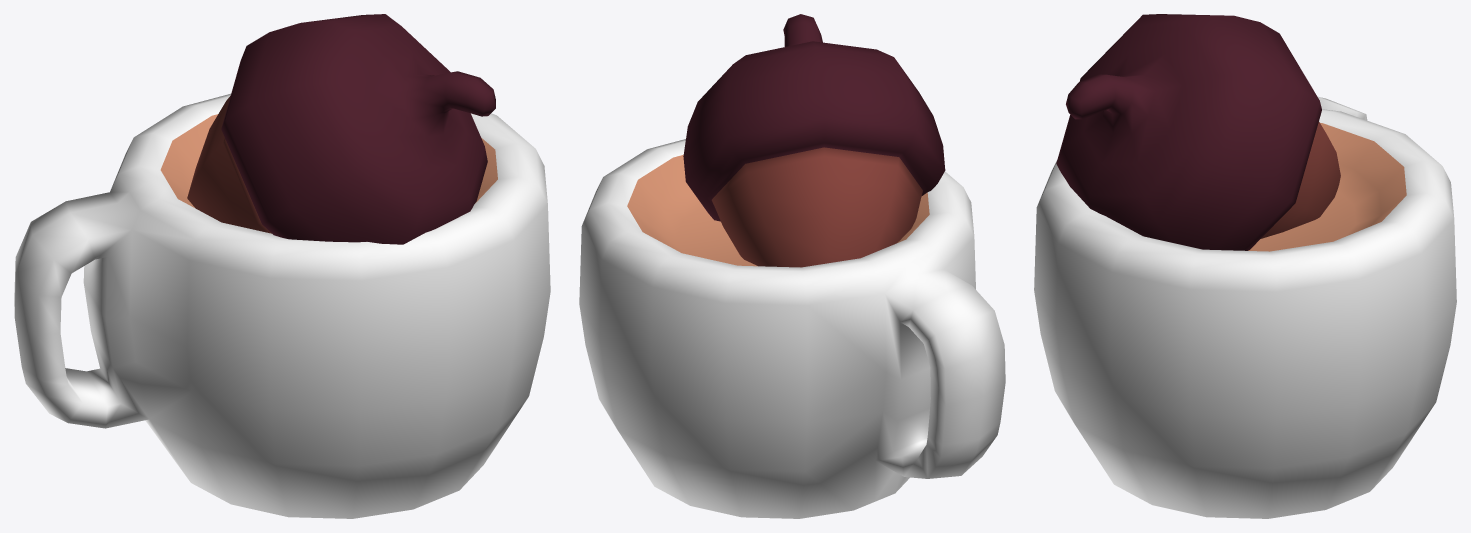
File: Acorn_Latte_Food.glb
The picture shows the model from 3 angles, left to right: view 1: azimuth 30°, elevation 25°; view 2: azimuth 150°, elevation 25°; view 3: azimuth 270°, elevation 25°; orthographic projection. The views are drawn at different scales.
Parts seen in each view (by area): view 1: Acorn_Latte_Food; view 2: Acorn_Latte_Food; view 3: Acorn_Latte_Food.
Part boxes in pixels (<box>): Acorn_Latte_Food: <box>14,14,550,518</box>; Acorn_Latte_Food: <box>579,14,1005,518</box>; Acorn_Latte_Food: <box>1034,14,1456,518</box>.
Bounding box in the file's own units: 0.1119 × 0.1041 × 0.0926.
1 material, 1 textured.
